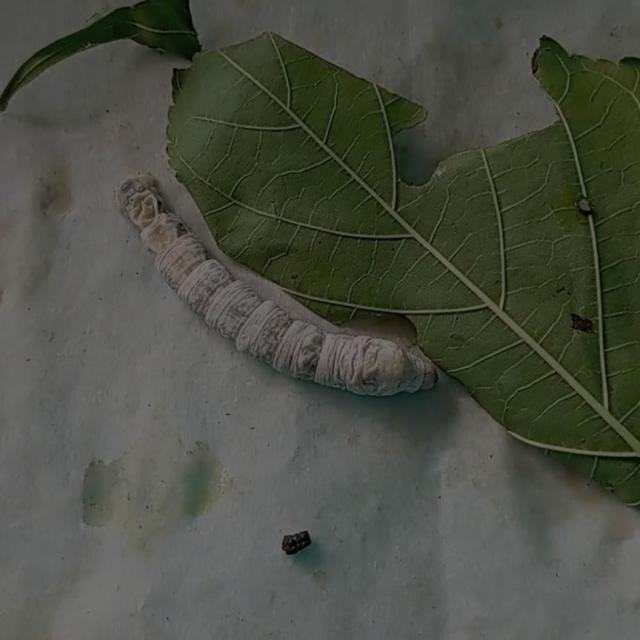Grasserie: (108, 164, 446, 419)
